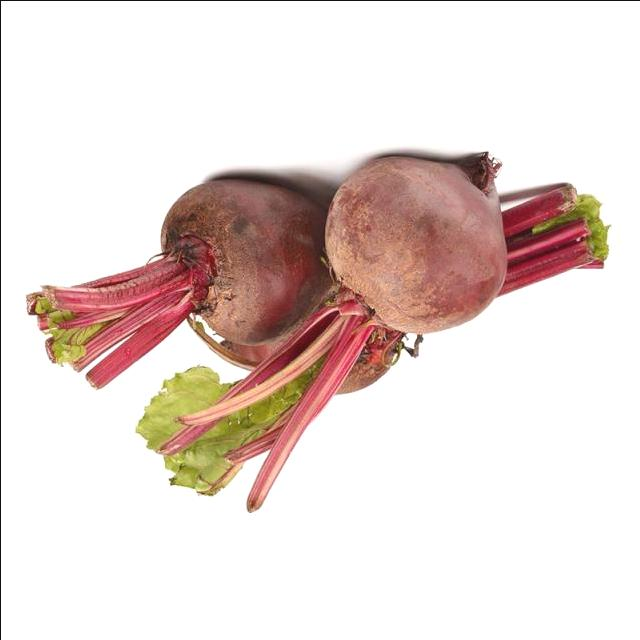beet: (322, 156, 515, 338), (146, 174, 328, 343)
